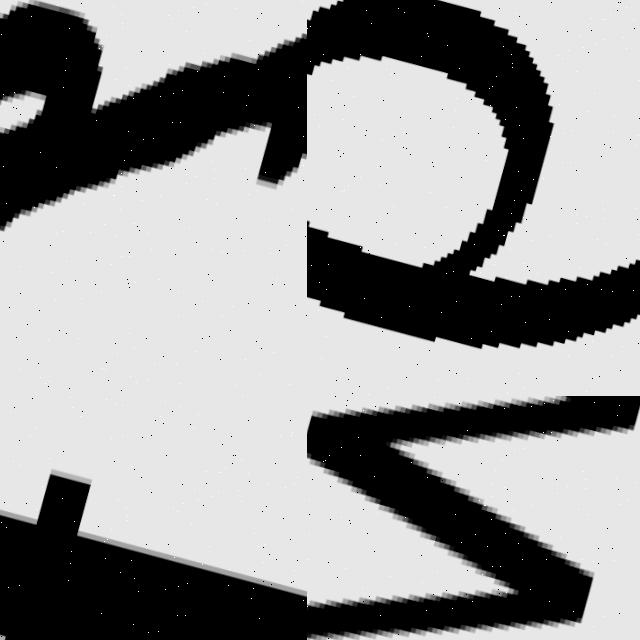9: (307, 0, 640, 396)
F: (0, 405, 307, 640)
Q: (0, 0, 307, 396)
W: (307, 396, 640, 640)
